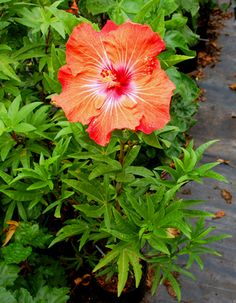Hibiscus: (55, 13, 178, 141)
